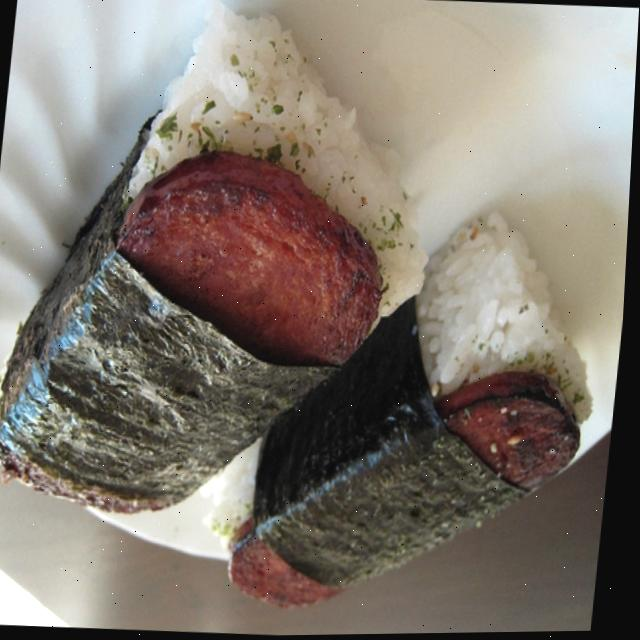寿司卷物: (0, 0, 640, 631)
